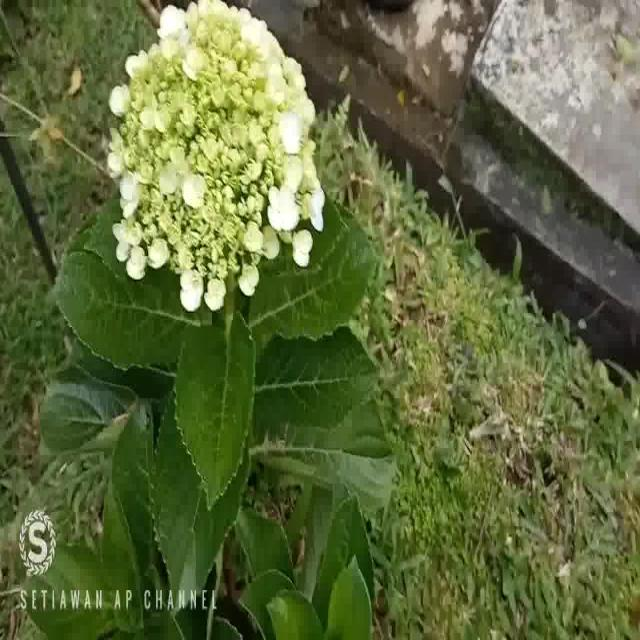Flower: (109, 1, 329, 299)
